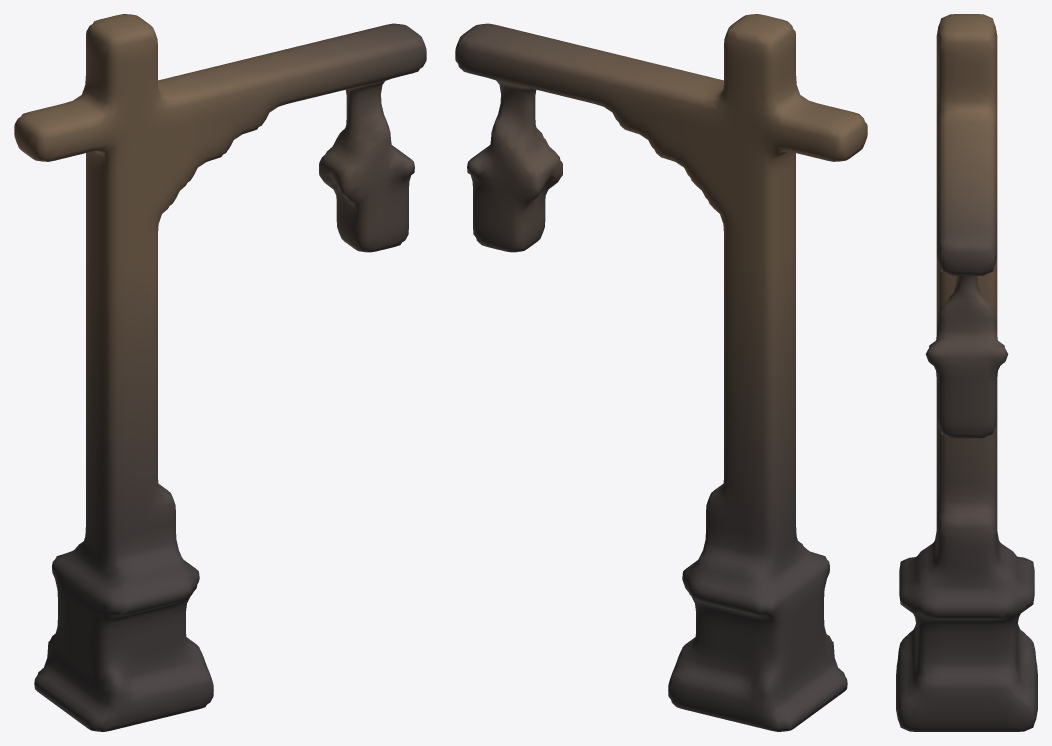
The model's file is Lantern_064B_vox.glb.
3 views of the same model, side by side, from view 1: azimuth 30°, elevation 25°; view 2: azimuth 150°, elevation 25°; view 3: azimuth 270°, elevation 25° (orthographic).
Visible parts, largest first — view 1: shapehash-vox; view 2: shapehash-vox; view 3: shapehash-vox.
Part boxes in pixels (bbox=[...]): shapehash-vox: bbox=[14, 14, 426, 731]; shapehash-vox: bbox=[455, 14, 867, 731]; shapehash-vox: bbox=[896, 14, 1037, 731].
Bounding box in the file's own units: 1.22 × 2 × 0.375.
